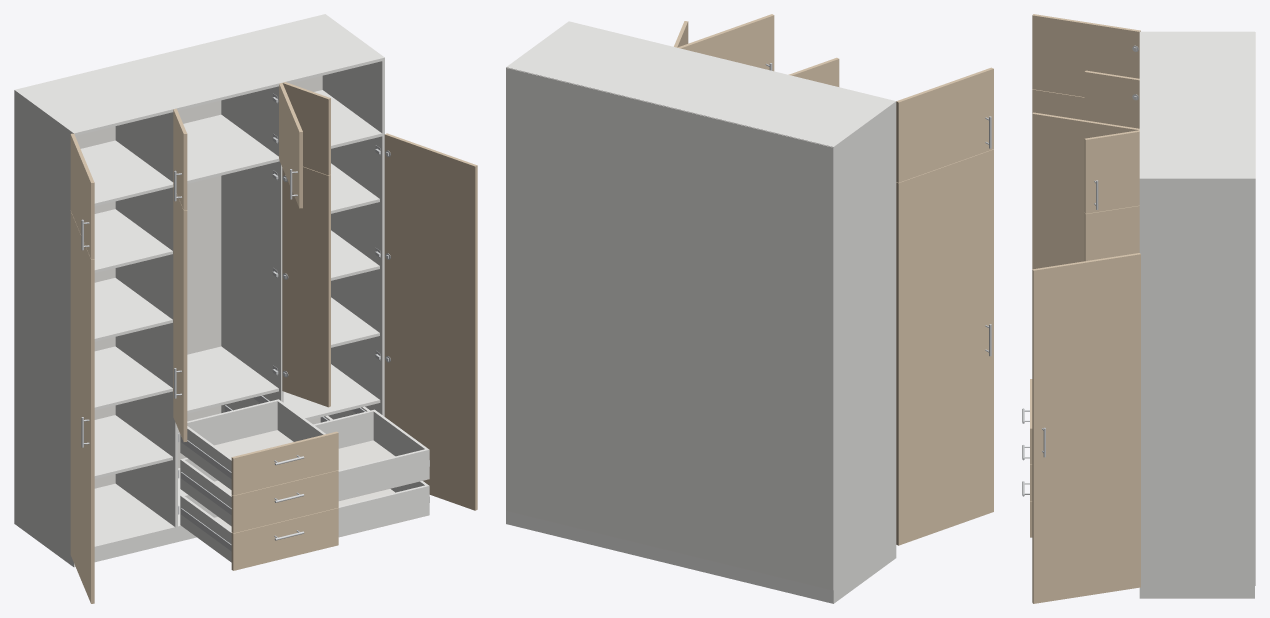
File: wardrobe_full_open.glb
The picture shows the model from 3 angles, left to right: view 1: azimuth 30°, elevation 25°; view 2: azimuth 150°, elevation 25°; view 3: azimuth 270°, elevation 25°; orthographic projection. The views are drawn at different scales.
Parts seen in each view (by area): view 1: 59:sections[2].doors.door[1], 1:body.side.left, 3:body.top, 10:partition[1], 2:body.side.right, 8:partition[0], 58:sections[1].doors.door[2], 7:mezzanine.shelf, 60:body.back[1], 53:sections[0].doors.door[1], 56:sections[1].fill[0].drawer[3].front, 54:sections[1].fill[0].drawer[1].front (+30 smaller); view 2: 60:body.back[1], 53:sections[0].doors.door[1], 1:body.side.left, 3:body.top, 49:mezzanine.sections[0].doors.door[1], 6:body.plinth.back, 52:mezzanine.sections[2].doors.door[1], 50:mezzanine.sections[1].doors.door[1], 2:body.side.right; view 3: 2:body.side.right, 59:sections[2].doors.door[1], 3:body.top, 49:mezzanine.sections[0].doors.door[1], 53:sections[0].doors.door[1], 52:mezzanine.sections[2].doors.door[1], 51:mezzanine.sections[1].doors.door[2], 50:mezzanine.sections[1].doors.door[1], 58:sections[1].doors.door[2], 60:body.back[1].
Part boxes in pixels (bbox=[...]): 59:sections[2].doors.door[1]: bbox=[384, 133, 477, 510]; 1:body.side.left: bbox=[14, 89, 76, 567]; 3:body.top: bbox=[17, 14, 382, 135]; 10:partition[1]: bbox=[221, 161, 283, 412]; 2:body.side.right: bbox=[322, 14, 384, 419]; 8:partition[0]: bbox=[115, 187, 177, 526]; 58:sections[1].doors.door[2]: bbox=[282, 166, 330, 407]; 7:mezzanine.shelf: bbox=[80, 90, 382, 206]; 60:body.back[1]: bbox=[76, 75, 322, 488]; 53:sections[0].doors.door[1]: bbox=[70, 211, 94, 603]; 56:sections[1].fill[0].drawer[3].front: bbox=[231, 431, 338, 495]; 54:sections[1].fill[0].drawer[1].front: bbox=[231, 508, 338, 570]; 60:body.back[1]: bbox=[506, 67, 833, 590]; 53:sections[0].doors.door[1]: bbox=[896, 149, 993, 545]; 1:body.side.left: bbox=[830, 100, 896, 603]; 3:body.top: bbox=[509, 22, 892, 146]; 49:mezzanine.sections[0].doors.door[1]: bbox=[896, 67, 993, 182]; 6:body.plinth.back: bbox=[509, 511, 830, 602]; 52:mezzanine.sections[2].doors.door[1]: bbox=[677, 14, 774, 71]; 50:mezzanine.sections[1].doors.door[1]: bbox=[788, 57, 839, 86]; 2:body.side.right: bbox=[506, 21, 571, 524]; 2:body.side.right: bbox=[1139, 177, 1254, 598]; 59:sections[2].doors.door[1]: bbox=[1032, 253, 1140, 603]; 3:body.top: bbox=[1139, 33, 1254, 177]; 49:mezzanine.sections[0].doors.door[1]: bbox=[1032, 14, 1140, 97]; 53:sections[0].doors.door[1]: bbox=[1032, 89, 1084, 269]; 52:mezzanine.sections[2].doors.door[1]: bbox=[1032, 112, 1139, 195]; 51:mezzanine.sections[1].doors.door[2]: bbox=[1084, 130, 1139, 213]; 50:mezzanine.sections[1].doors.door[1]: bbox=[1084, 70, 1139, 128]; 58:sections[1].doors.door[2]: bbox=[1084, 205, 1139, 261]; 60:body.back[1]: bbox=[1255, 32, 1255, 585].
Size of the model in its own units: 2.28 by 2.4 by 1.21.
